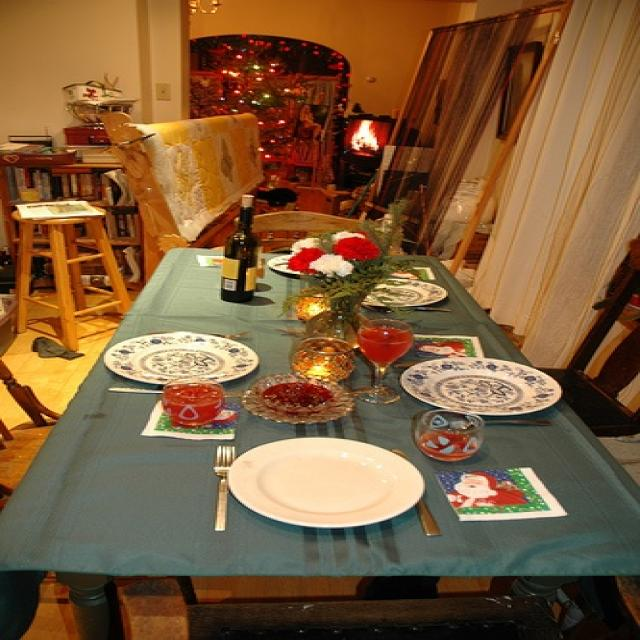bottle: (217, 192, 260, 303)
chair: (538, 242, 638, 439)
diningtable: (8, 247, 638, 639)
